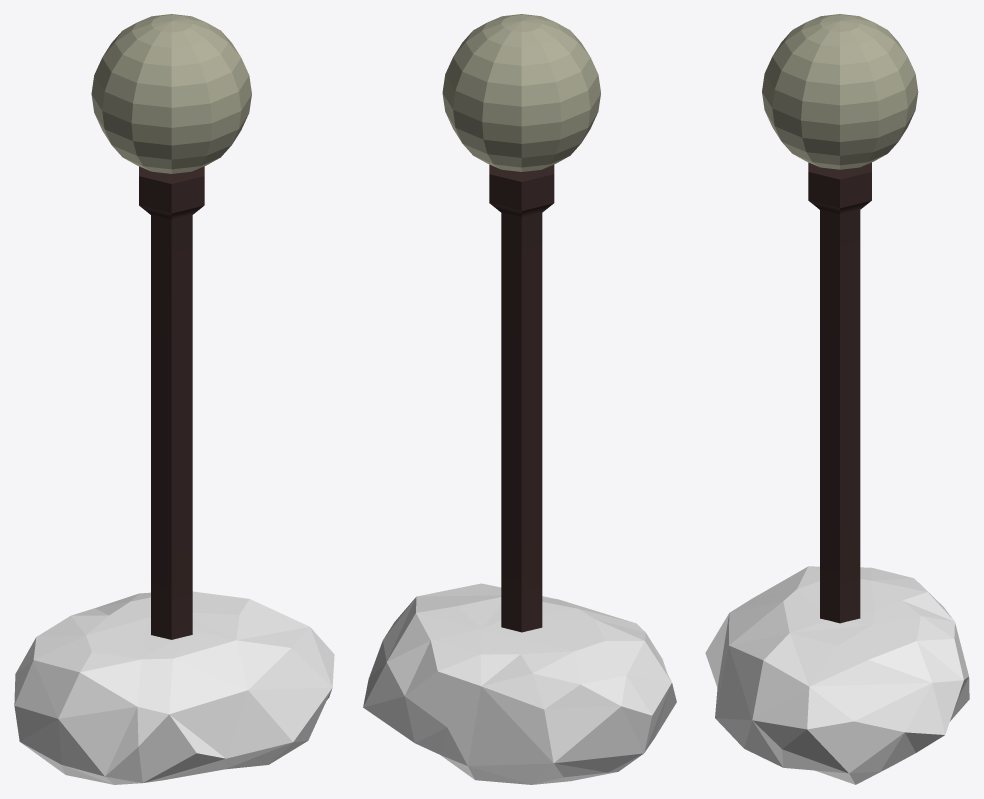
File: lamp_post.fbx
3 views of the same model, side by side, from view 1: azimuth 30°, elevation 25°; view 2: azimuth 150°, elevation 25°; view 3: azimuth 270°, elevation 25° (orthographic). The views are drawn at different scales.
Visible parts, largest first — view 1: cloud_base, post, lamp; view 2: cloud_base, post, lamp; view 3: cloud_base, post, lamp.
Boxes of the visible parts, x1,y1,x2,y2 form: cloud_base: (14, 591, 334, 784); post: (139, 166, 204, 639); lamp: (91, 14, 251, 173); cloud_base: (363, 583, 676, 784); post: (489, 164, 554, 632); lamp: (442, 14, 600, 171); cloud_base: (705, 566, 969, 784); post: (808, 162, 871, 623); lamp: (762, 14, 918, 169).
Bounding box in the file's own units: 70.57 × 172 × 57.07.
